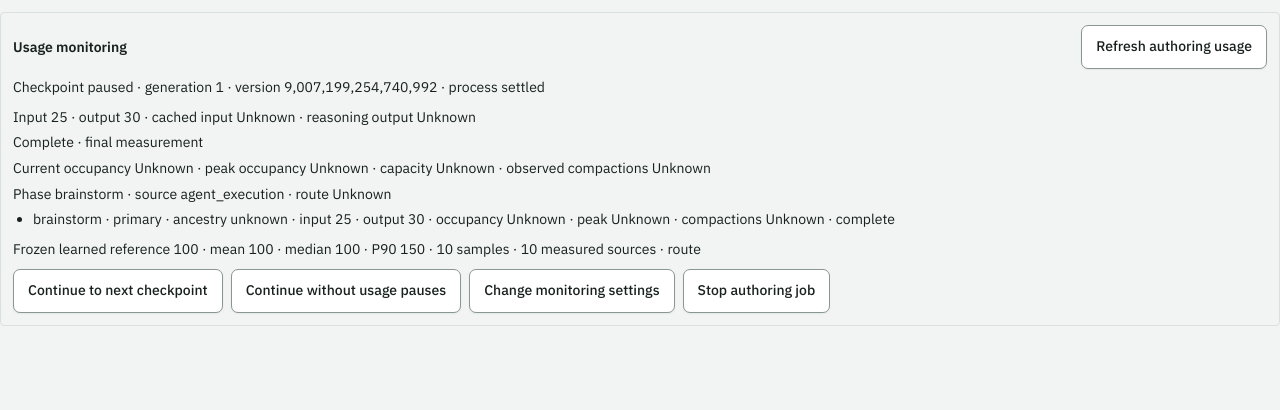
Test case: clears high authoring checkpoint 409 binding and submits a fresh exact request/key
What coordinates should you click on to do the following:
click the button "Continue without usage pauses"
I would click on:
 (346, 291)
Its box is [231, 269, 461, 313].
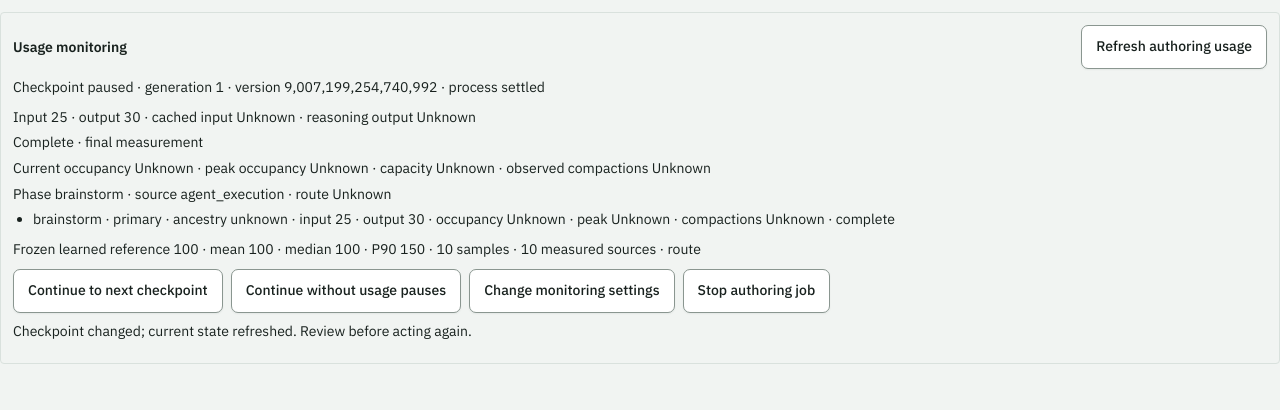
Check: the text "Checkpoint changed; current state refreshed. Review before acting again." is shown, box [13, 322, 472, 340]
What coordinates should you click on to do the following:
click the button "Refresh authoring usage"
I would click on:
 (1174, 47)
Its box is [1081, 25, 1267, 69].
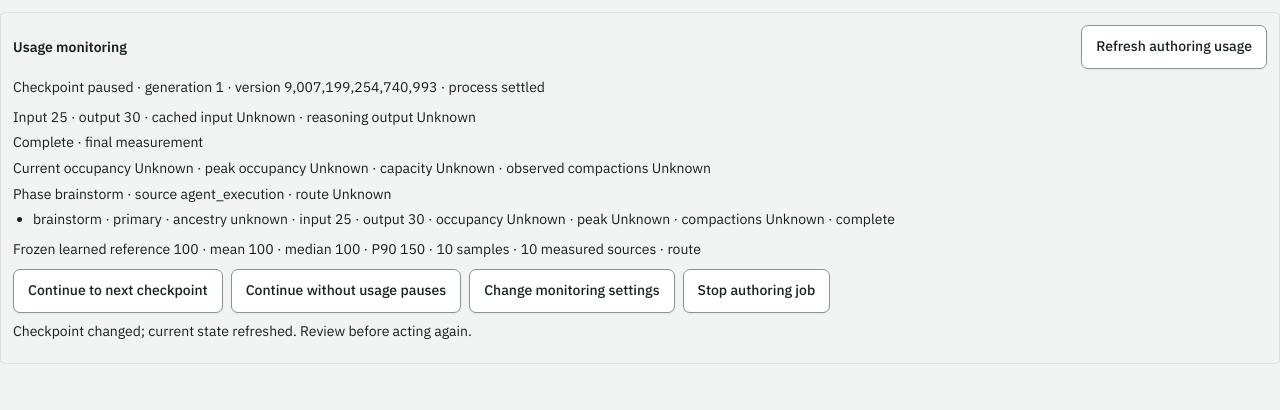
Check: the text "version 9,007,199,254,740,993" is shown, box [13, 78, 545, 96]
What coordinates should you click on to do the following:
click the button "Continue without usage pauses"
I would click on:
 (346, 291)
Its box is [231, 269, 461, 313].
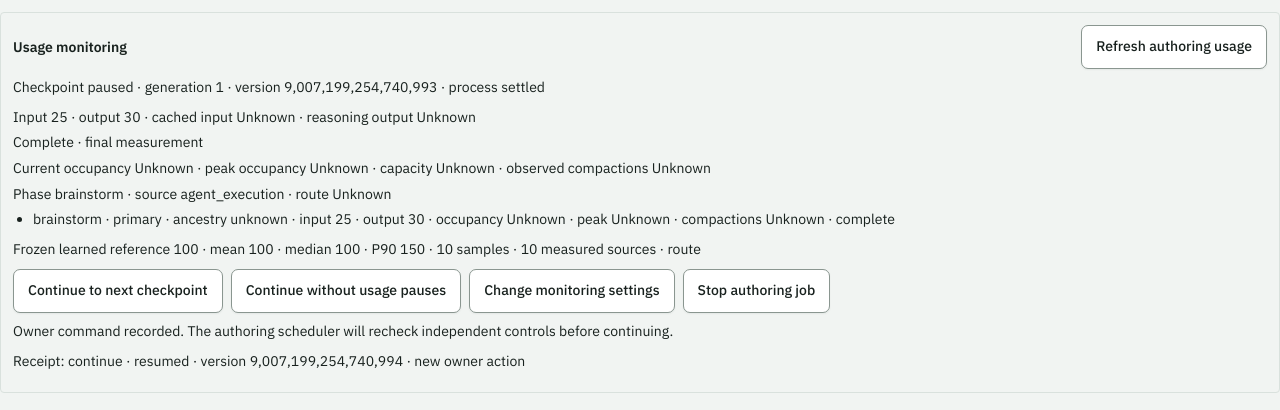
Check: the text "Owner command recorded" is shown, box [13, 322, 673, 340]
